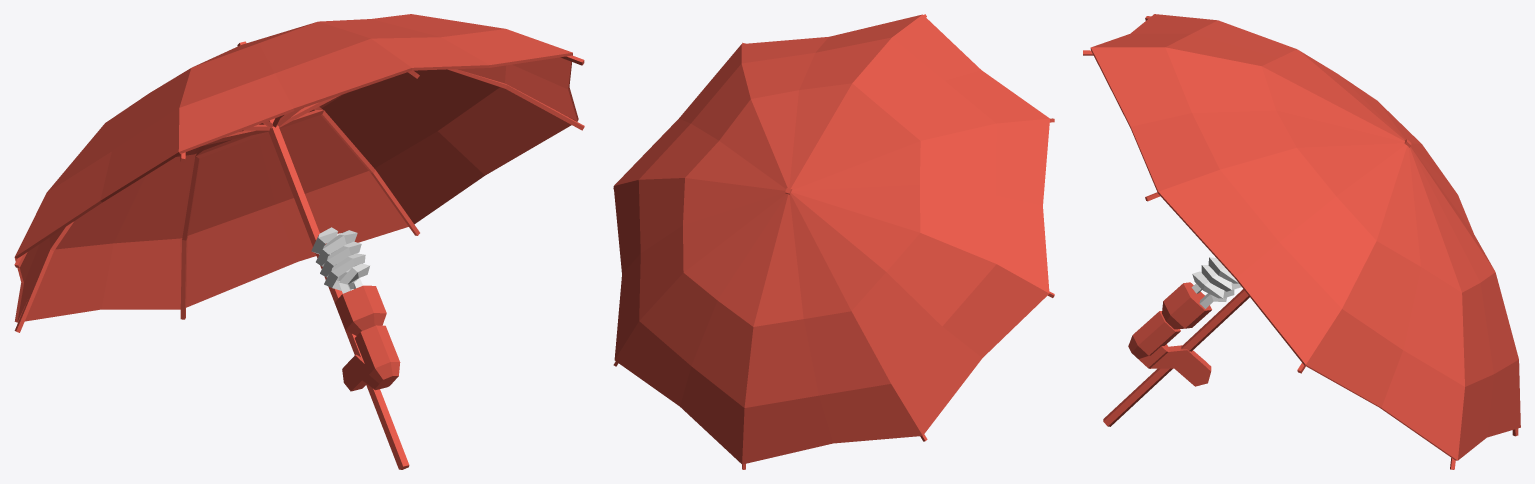
The model's file is SM_Light_Umbrella_Light_Black.fbx.
3 renders of one model, left to right at view 1: azimuth 30°, elevation 25°; view 2: azimuth 150°, elevation 25°; view 3: azimuth 270°, elevation 25°, orthographic. The views are drawn at different scales.
Parts seen in each view (by area): view 1: SM_Light_Umbrella_Light_Black; view 2: SM_Light_Umbrella_Light_Black; view 3: SM_Light_Umbrella_Light_Black.
Part boxes in pixels (x1=…): SM_Light_Umbrella_Light_Black: x1=14, y1=14, x2=584, y2=469; SM_Light_Umbrella_Light_Black: x1=613, y1=14, x2=1054, y2=469; SM_Light_Umbrella_Light_Black: x1=1083, y1=14, x2=1520, y2=469.
Bounding box in the file's own units: 76.6 × 106 × 74.8.
